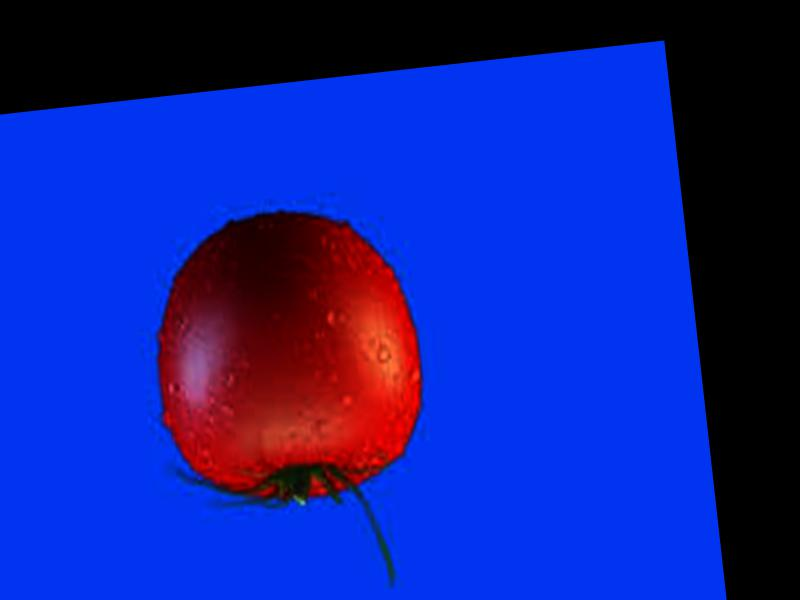Tomato: (139, 198, 434, 515)
